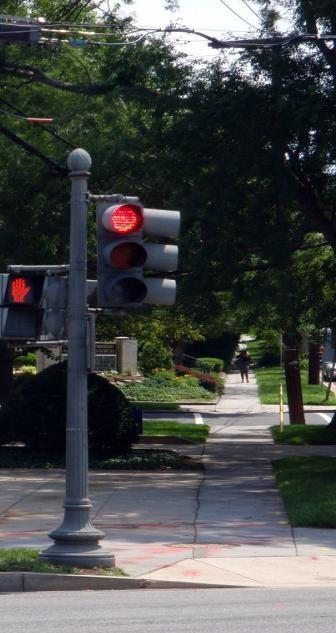red_light: (97, 199, 149, 311)
